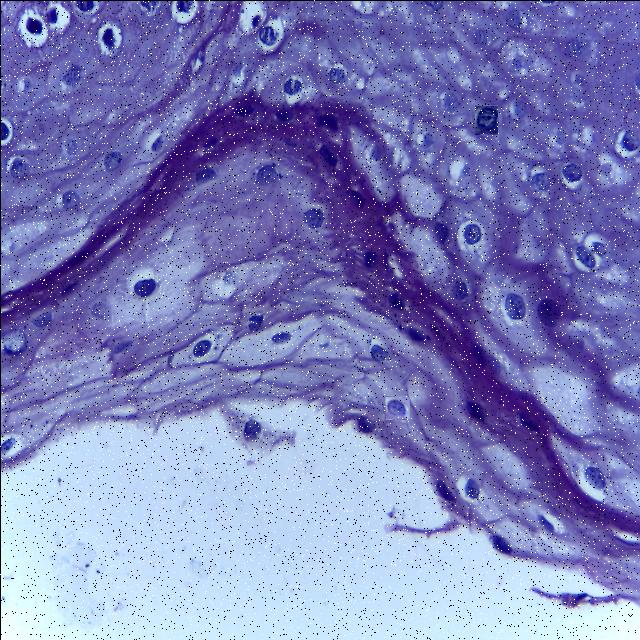Multiple Nucleol: (474, 105, 496, 133), (385, 396, 408, 418)
